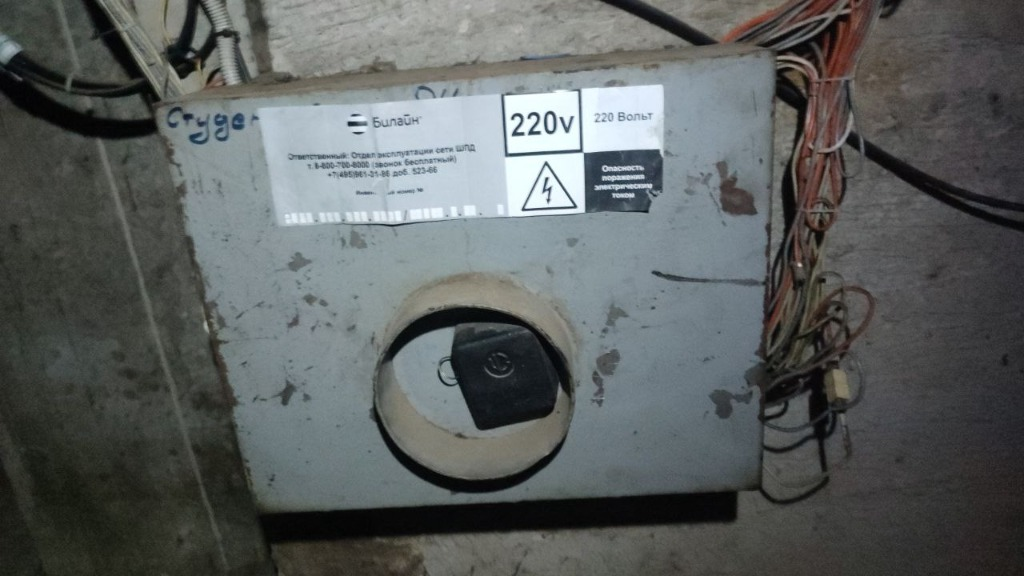shta-3: (147, 38, 781, 516)
